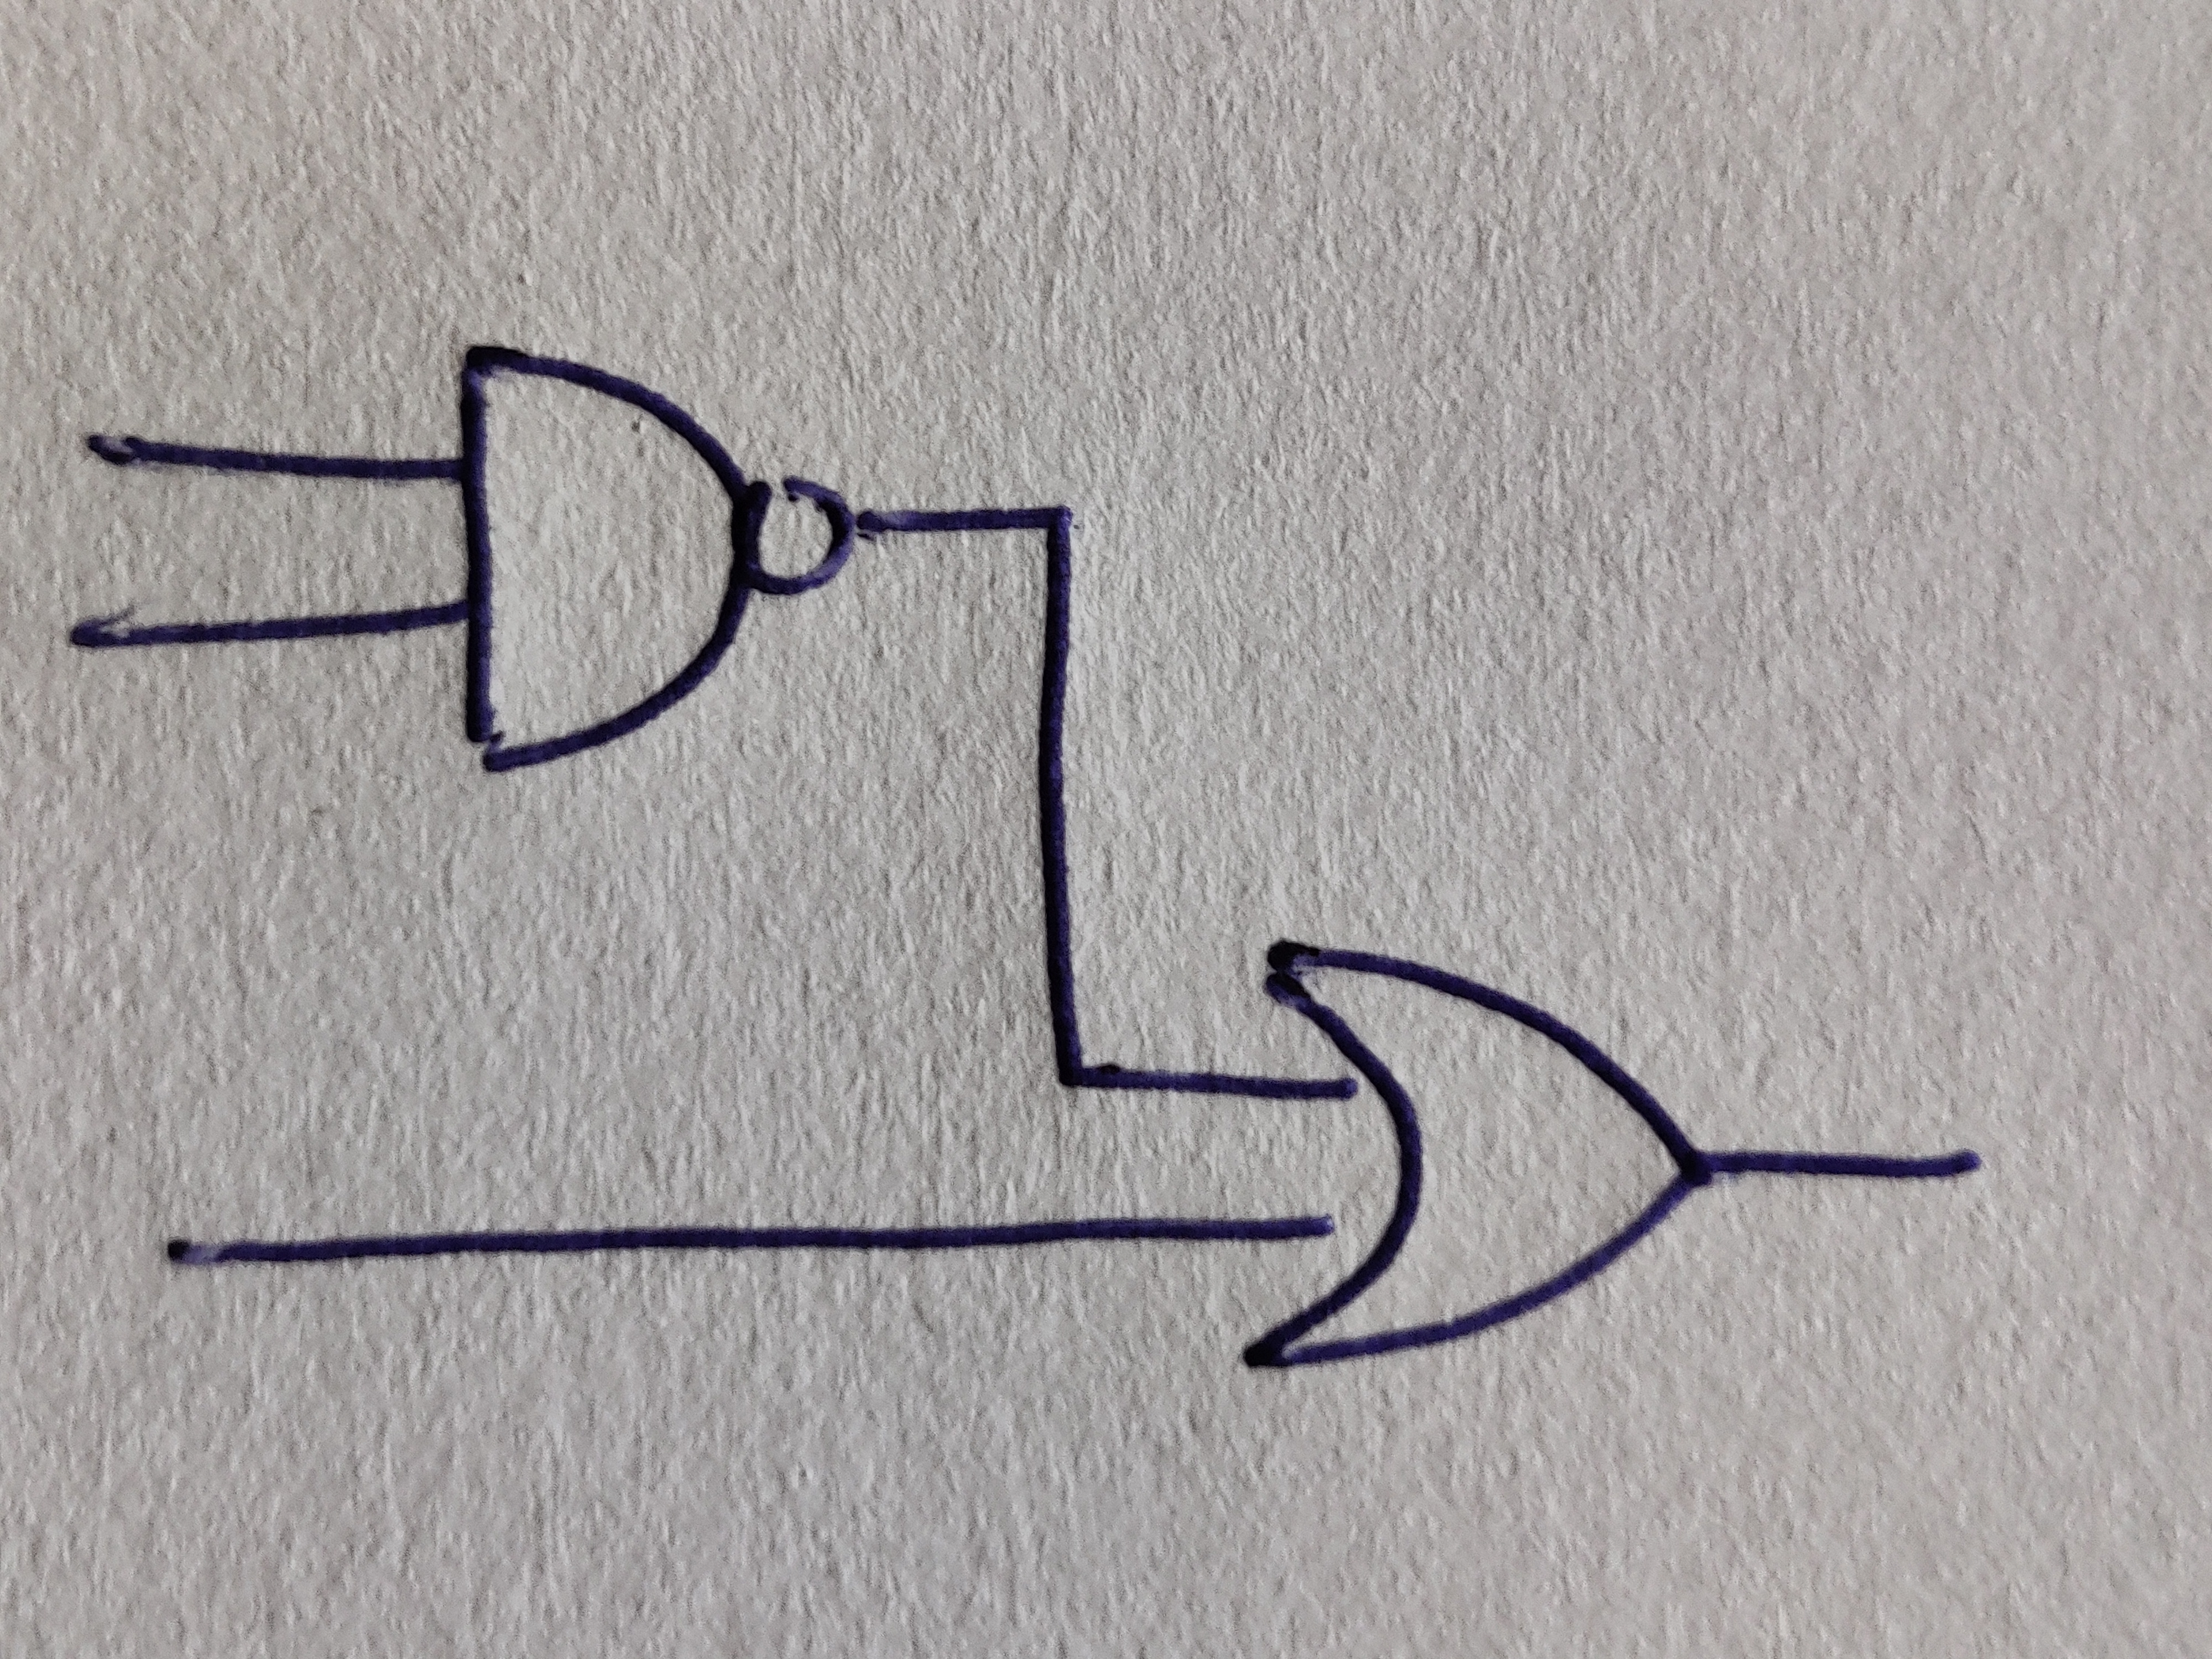and: (460, 343, 747, 775)
not: (737, 477, 859, 596)
or: (1245, 950, 1705, 1373)
